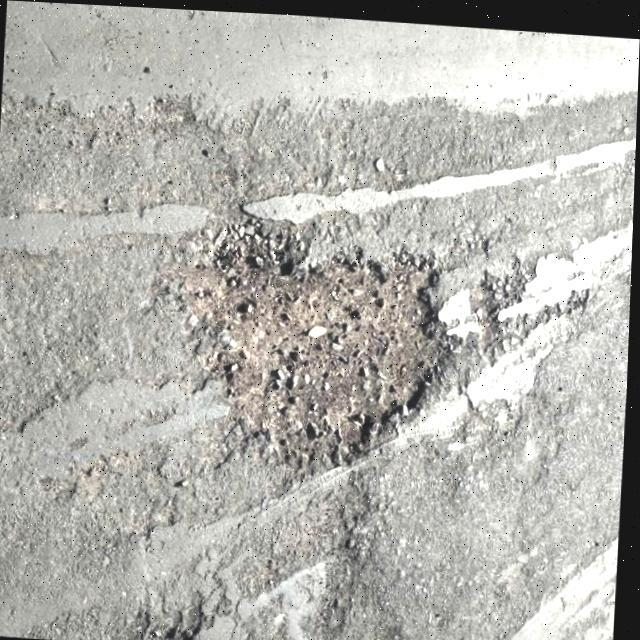pothole: (163, 188, 464, 480)
